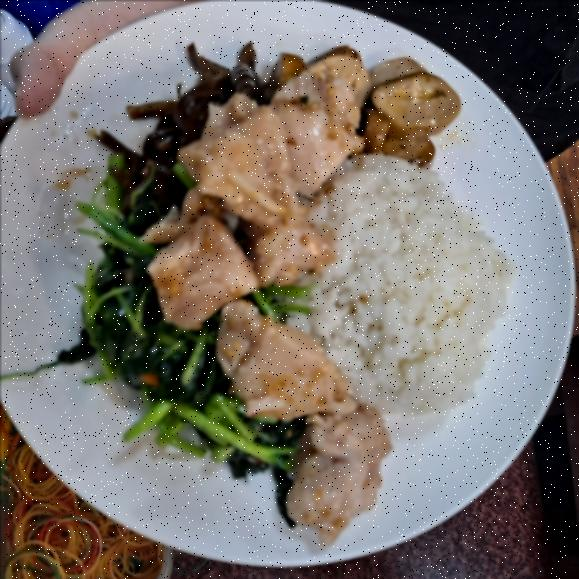plate: (0, 5, 574, 566)
scallion chicken: (199, 57, 356, 538)
side dish: (76, 238, 234, 452), (97, 42, 238, 193), (350, 58, 454, 155)
white rice: (296, 152, 518, 416)
